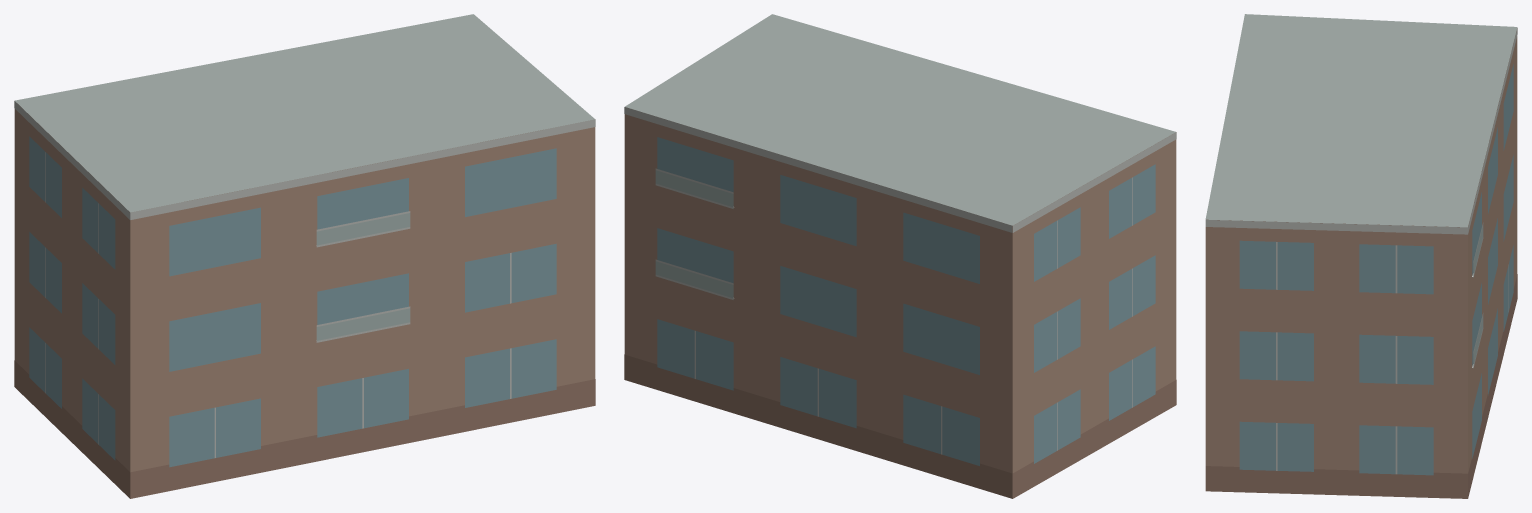
The model's file is survey-upis-32804605.glb.
The picture shows the model from 3 angles, left to right: view 1: azimuth 30°, elevation 25°; view 2: azimuth 150°, elevation 25°; view 3: azimuth 270°, elevation 25°; orthographic projection. The views are drawn at different scales.
Visible parts, largest first — view 1: survey-upis-32804605.tmp; view 2: survey-upis-32804605.tmp; view 3: survey-upis-32804605.tmp.
Part boxes in pixels (bbox=[...]): survey-upis-32804605.tmp: bbox=[14, 14, 595, 498]; survey-upis-32804605.tmp: bbox=[624, 14, 1176, 498]; survey-upis-32804605.tmp: bbox=[1205, 14, 1517, 498].
Bounding box in the file's own units: 15.43 × 9.15 × 9.54.
